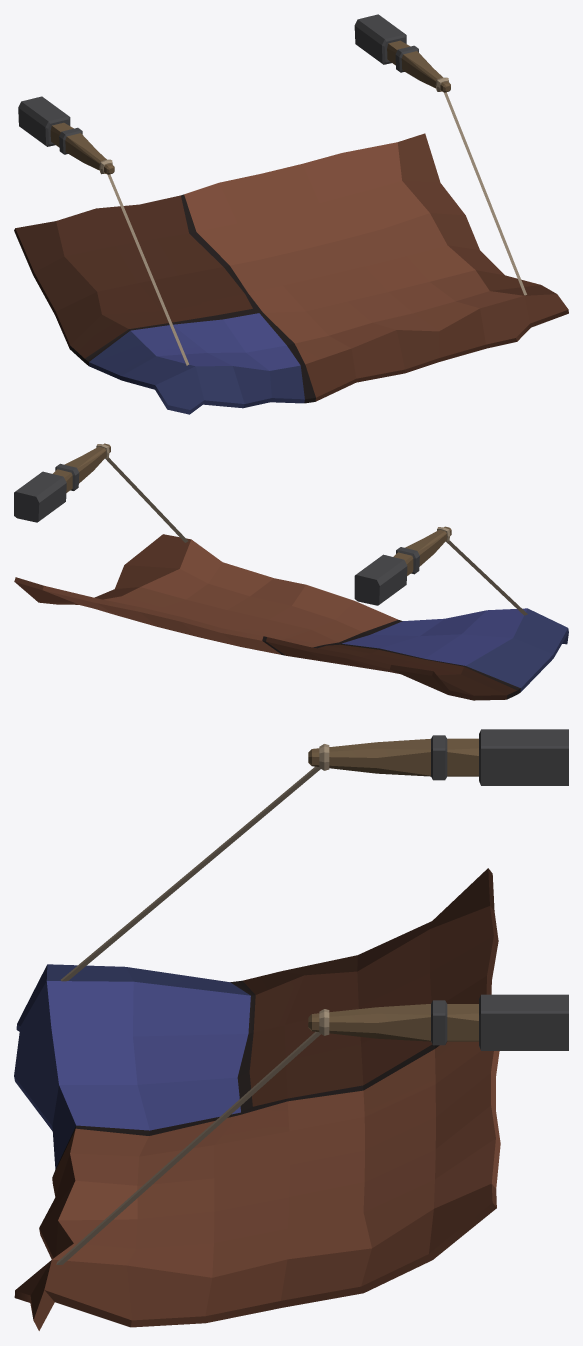
File: SM_Prop_Stall_Cloth_04.glb
The picture shows the model from 3 angles, top to bottom: view 1: azimuth 30°, elevation 25°; view 2: azimuth 150°, elevation 25°; view 3: azimuth 270°, elevation 25°; orthographic projection. The views are drawn at different scales.
Parts seen in each view (by area): view 1: SM_Prop_Stall_Cloth_04; view 2: SM_Prop_Stall_Cloth_04; view 3: SM_Prop_Stall_Cloth_04.
Boxes of the visible parts, bbox=[...] form: SM_Prop_Stall_Cloth_04: bbox=[14, 14, 568, 414]; SM_Prop_Stall_Cloth_04: bbox=[14, 443, 568, 700]; SM_Prop_Stall_Cloth_04: bbox=[14, 729, 568, 1330].
Bounding box in the file's own units: 0.0373 × 0.0181 × 0.0261.
